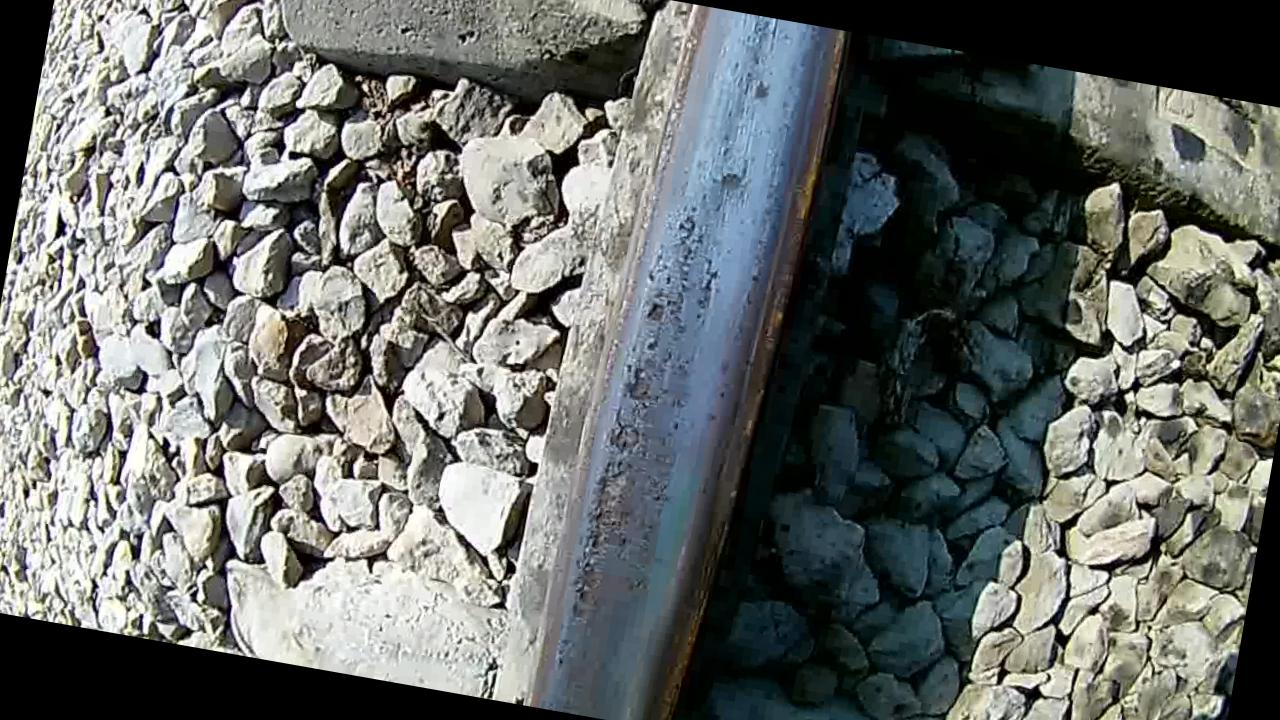crack: (535, 0, 834, 720)
